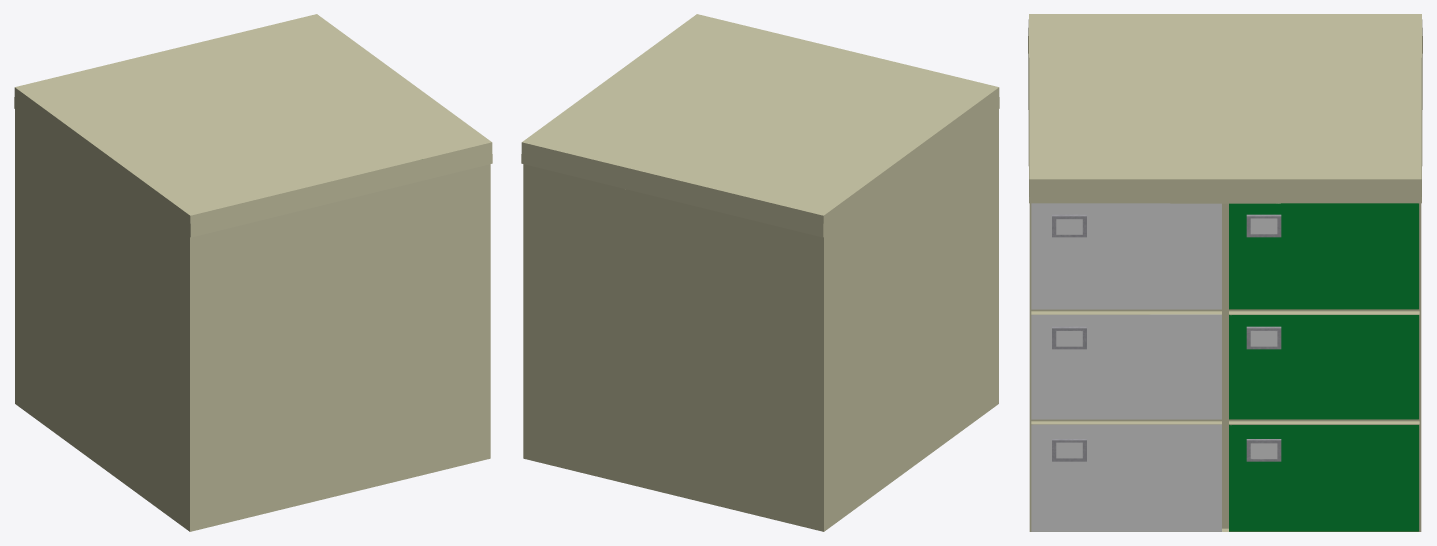
File: Elec_fridgekekw.fbx
3 views of the same model, side by side, from view 1: azimuth 30°, elevation 25°; view 2: azimuth 150°, elevation 25°; view 3: azimuth 270°, elevation 25° (orthographic). The views are drawn at different scales.
Visible parts, largest first — view 1: Cube; view 2: Cube; view 3: Cube.
Boxes of the visible parts, left/top/right/bottom form: Cube: left=14, top=14, right=492, bottom=531; Cube: left=521, top=14, right=999, bottom=531; Cube: left=1028, top=14, right=1422, bottom=531.
Bounding box in the file's own units: 202 × 201 × 203.
1 material, 1 textured.
